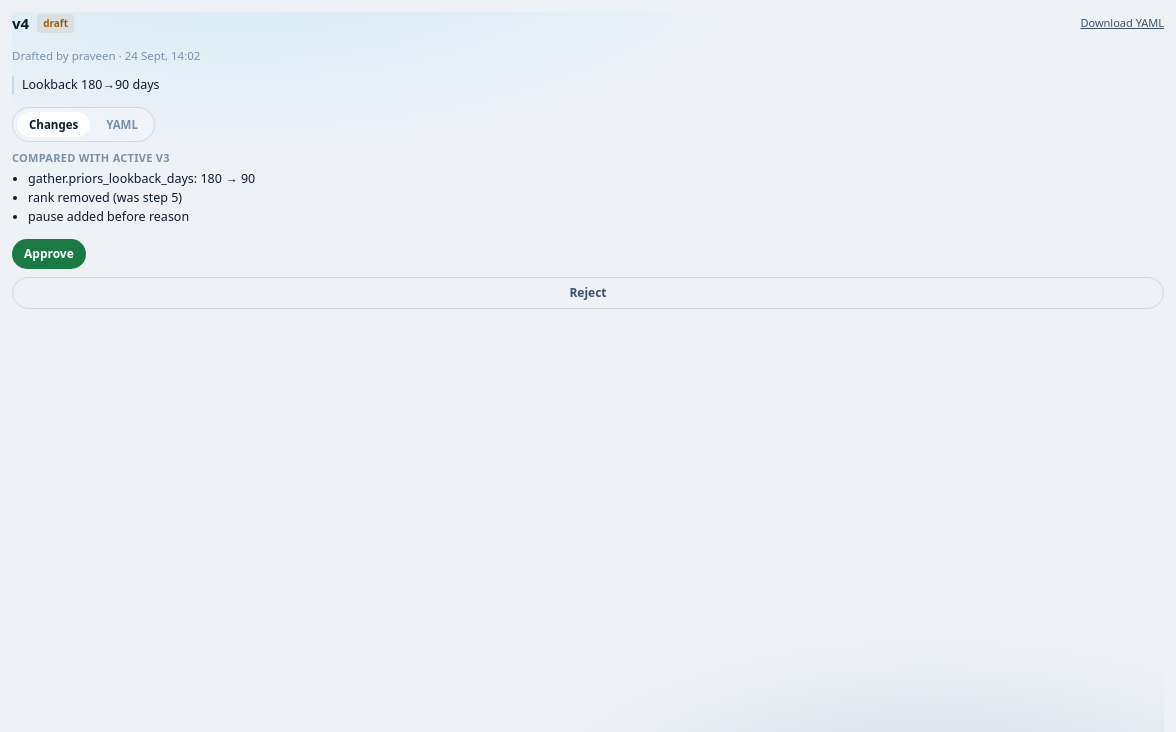
Test: VersionDetail › YAML tab › offers Diff vs active vN for a draft, loading the active version’s YAML too
What coordinates should you click on to do the following:
click the tab "YAML"
I would click on:
 (122, 124)
Its box is left=94, top=112, right=150, bottom=137.
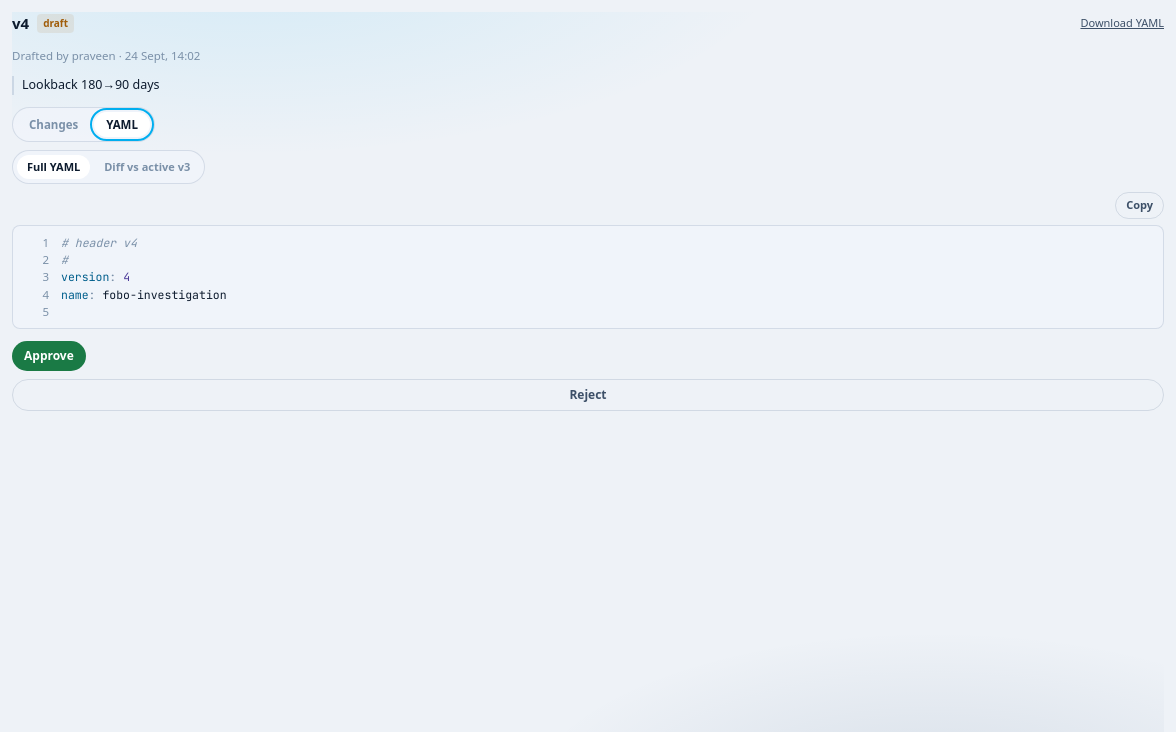
Expected: the text "fobo-investigation" is shown, left=102, top=286, right=227, bottom=302
What coordinates should you click on to do the following:
click the button "Diff vs active v3"
I would click on:
 (147, 167)
Its box is left=94, top=155, right=200, bottom=179.
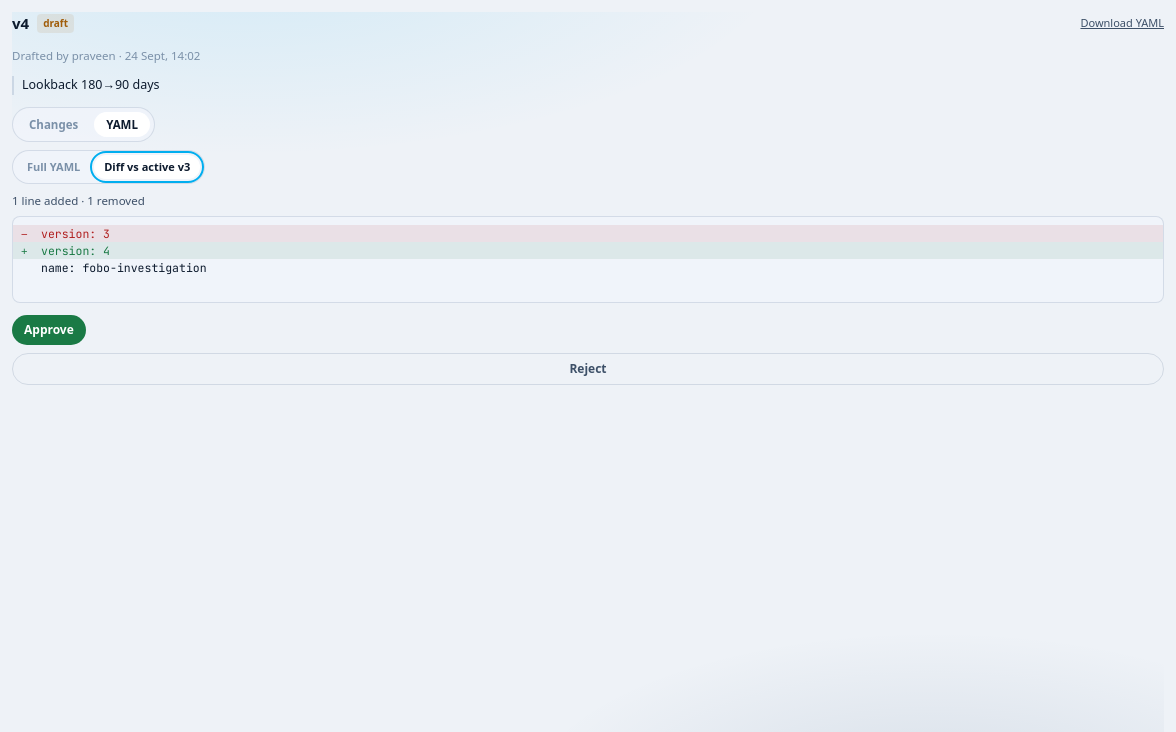
Expected: the text "version: 4" is shown, left=41, top=242, right=110, bottom=259
Expected: the text "version: 3" is shown, left=41, top=224, right=110, bottom=242
